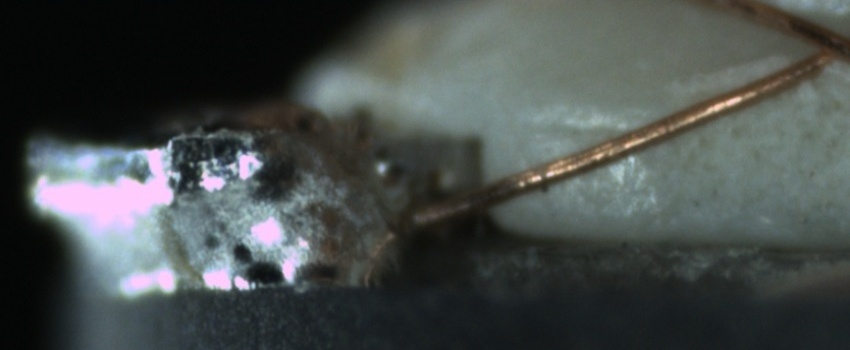CL: (795, 18, 850, 77)
DL: (523, 96, 646, 159)
